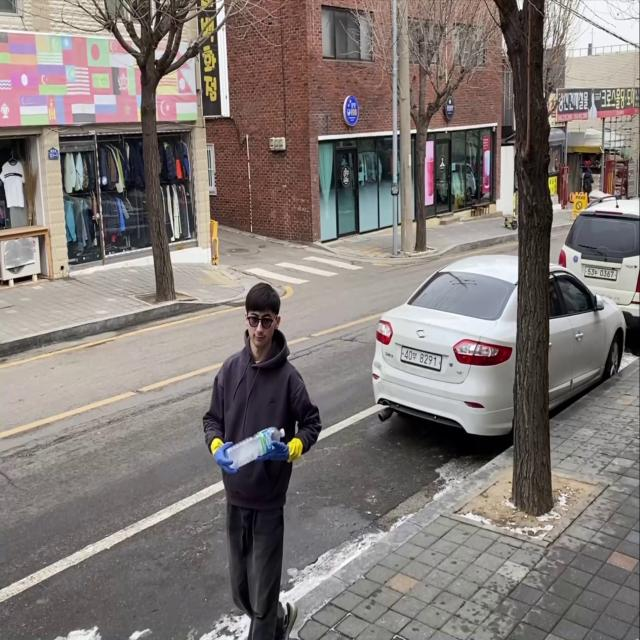gloved_hand: (209, 440, 237, 475), (260, 439, 289, 467)
